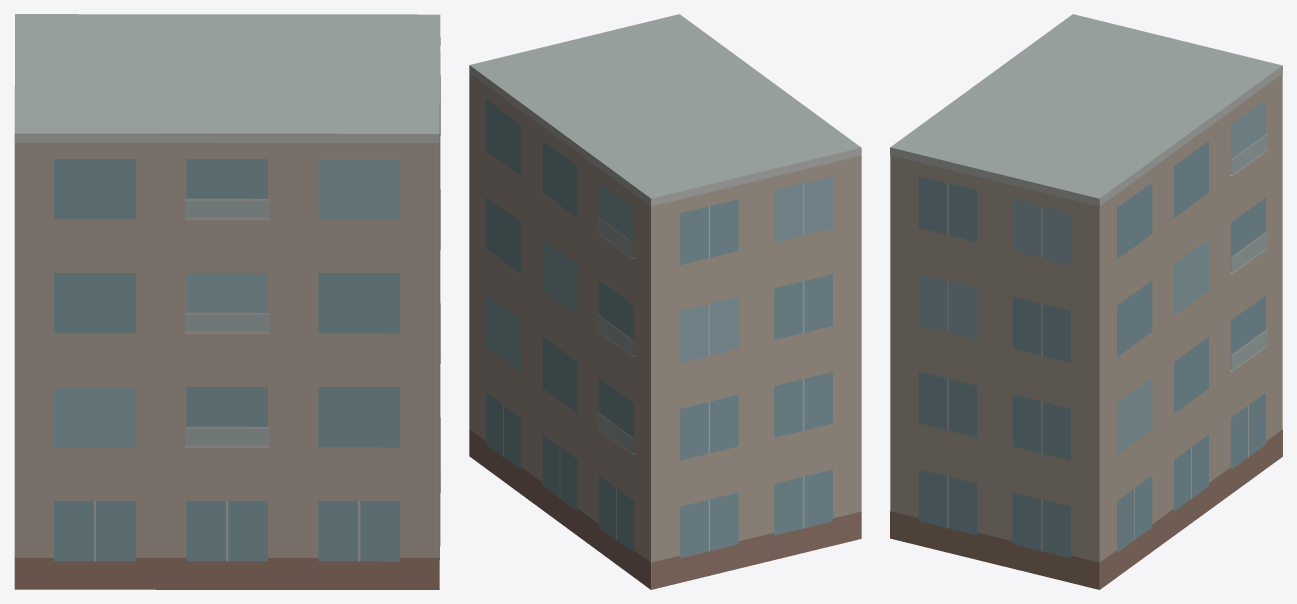
Rendered from residential-65941eca-7251-4359-bcd1-79498d7bca94.glb.
The picture shows the model from 3 angles, left to right: view 1: azimuth 30°, elevation 25°; view 2: azimuth 150°, elevation 25°; view 3: azimuth 270°, elevation 25°; orthographic projection. The views are drawn at different scales.
Visible parts, largest first — view 1: residential-65941eca-7251-4359-bcd1-79498d7bca94.tmp; view 2: residential-65941eca-7251-4359-bcd1-79498d7bca94.tmp; view 3: residential-65941eca-7251-4359-bcd1-79498d7bca94.tmp.
Part boxes in pixels (box(x1,y1,x2,y2)): residential-65941eca-7251-4359-bcd1-79498d7bca94.tmp: box(14, 14, 440, 589); residential-65941eca-7251-4359-bcd1-79498d7bca94.tmp: box(469, 14, 861, 589); residential-65941eca-7251-4359-bcd1-79498d7bca94.tmp: box(890, 14, 1282, 589).
Bounding box in the file's own units: 12.37 × 12.2 × 11.11.
